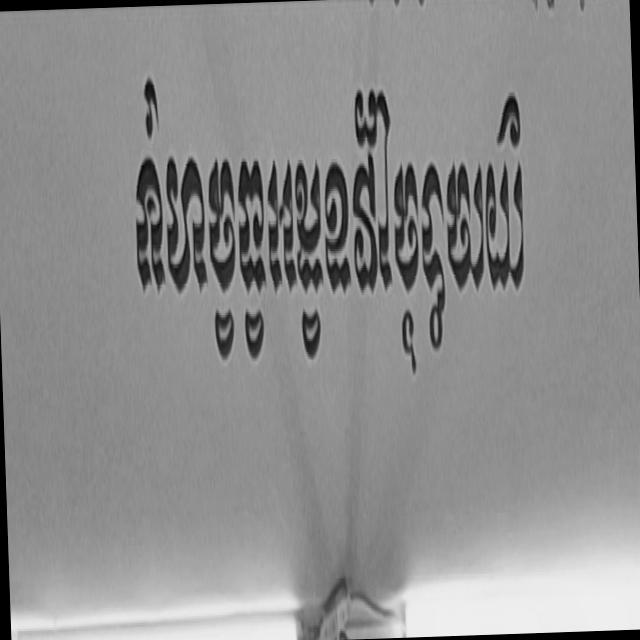Yolov11kh: (115, 9, 571, 409)
